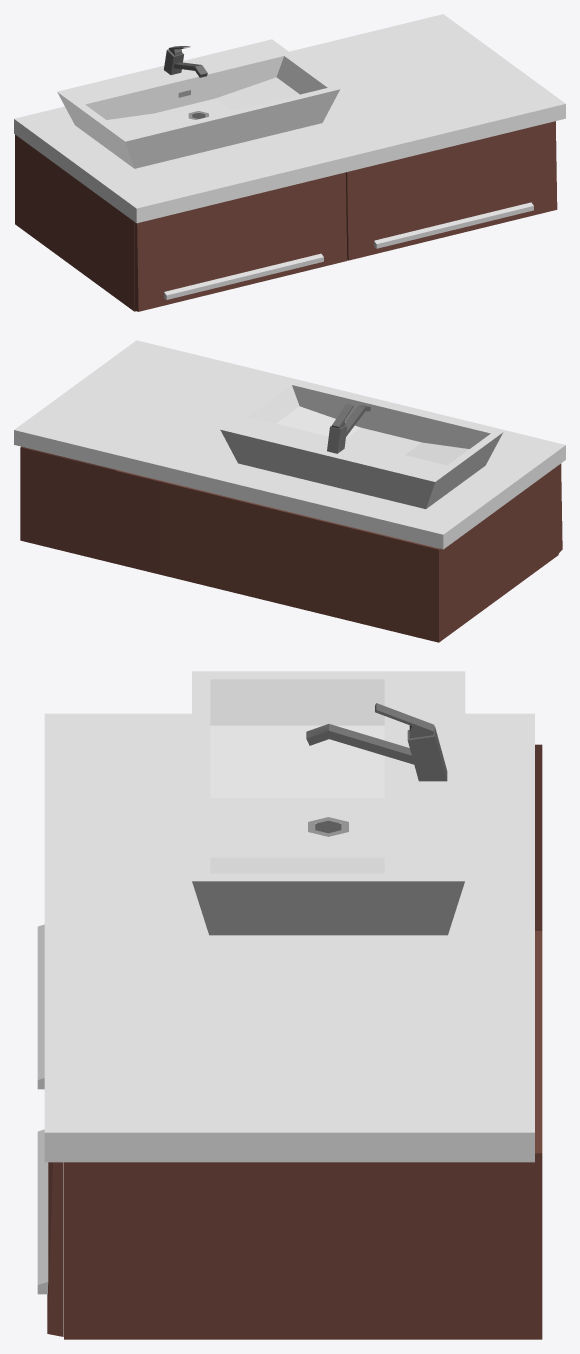
Rendered from bathroom_item_004.glb.
3 views of the same model, one above another, from view 1: azimuth 30°, elevation 25°; view 2: azimuth 150°, elevation 25°; view 3: azimuth 270°, elevation 25° (orthographic). The views are drawn at different scales.
Parts seen in each view (by area): view 1: bathroom_item_004; view 2: bathroom_item_004; view 3: bathroom_item_004.
Boxes of the visible parts, box(x1,y1,x2,y2) form: bathroom_item_004: box(14, 14, 565, 311); bathroom_item_004: box(14, 340, 565, 642); bathroom_item_004: box(37, 671, 542, 1339).
Size of the model in its own units: 1.1 by 0.4305 by 0.5593.
1 material, 1 textured.
